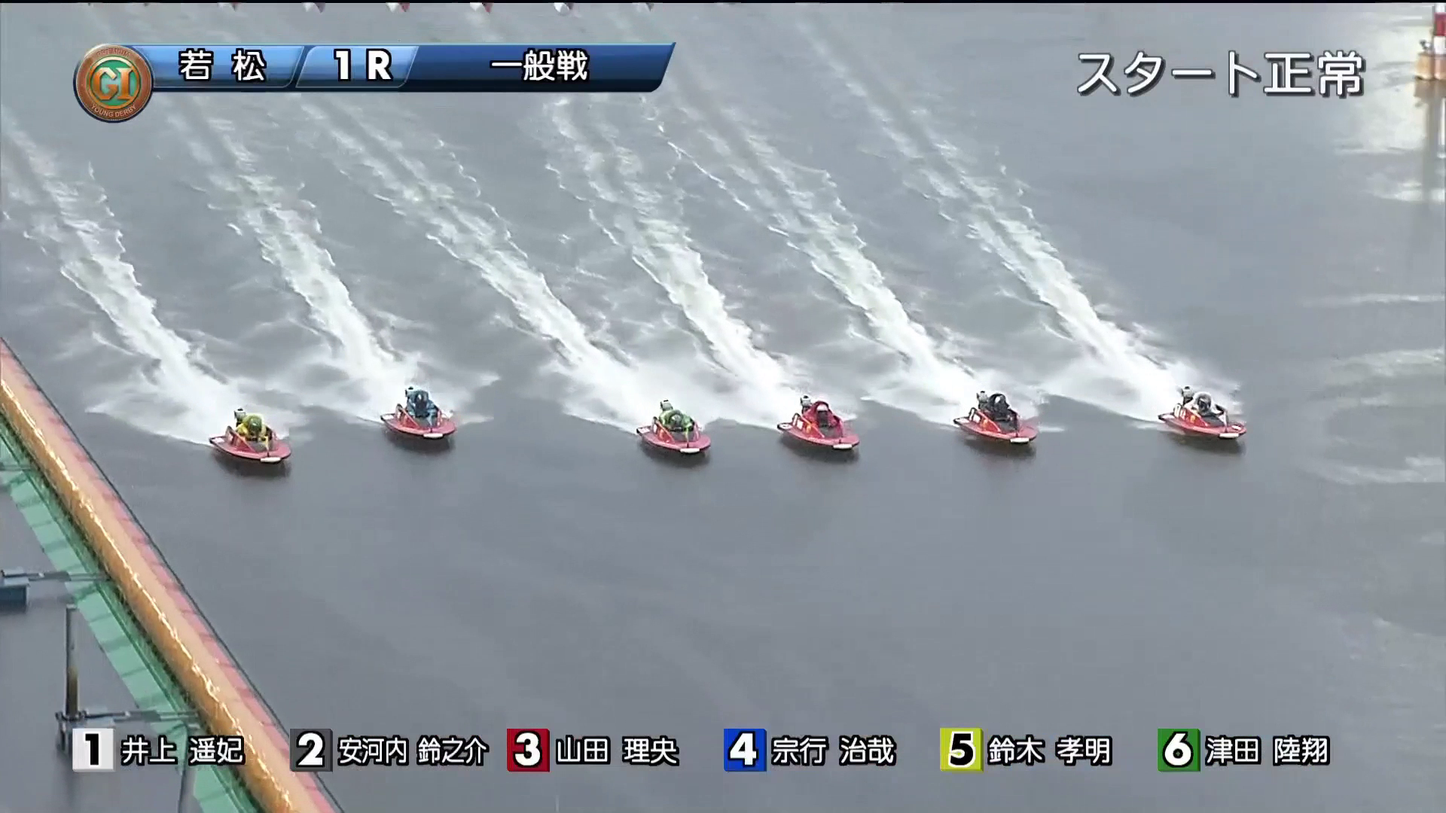１号艇: (1177, 409, 1256, 450)
２号艇: (822, 366, 911, 404)
３号艇: (735, 391, 826, 432)
４号艇: (655, 404, 759, 447)
５号艇: (487, 414, 608, 469)
６号艇: (469, 455, 568, 512)
